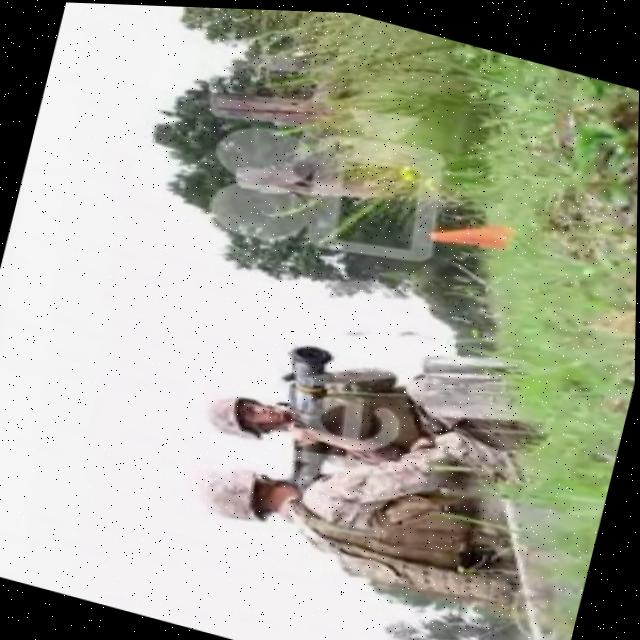rocket: (261, 333, 351, 481)
